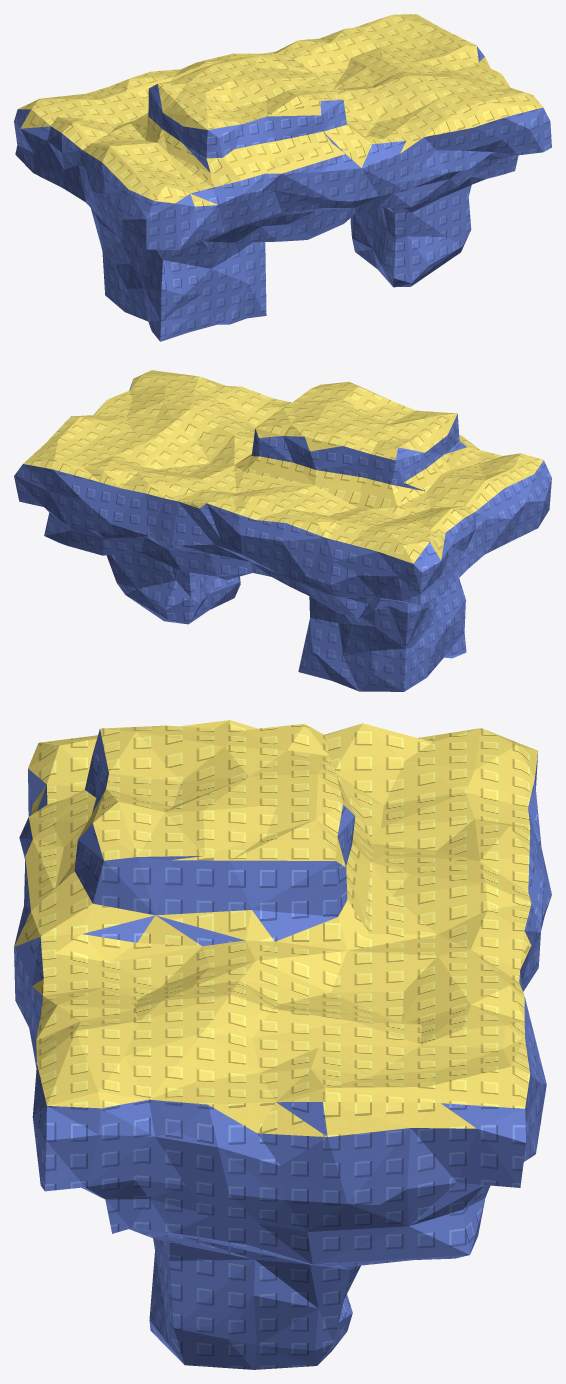
Rendered from ReefShelf.glb.
The picture shows the model from 3 angles, top to bottom: view 1: azimuth 30°, elevation 25°; view 2: azimuth 150°, elevation 25°; view 3: azimuth 270°, elevation 25°; orthographic projection. The views are drawn at different scales.
Visible parts, largest first — view 1: ReefShelf_Rock, ReefShelf_Top; view 2: ReefShelf_Rock, ReefShelf_Top; view 3: ReefShelf_Top, ReefShelf_Rock.
Part boxes in pixels (x1,y1,x2,y2): ReefShelf_Rock: (14,46,551,341); ReefShelf_Top: (18,14,542,206); ReefShelf_Rock: (14,382,551,691); ReefShelf_Top: (23,370,543,563); ReefShelf_Top: (14,720,537,1136); ReefShelf_Rock: (14,729,551,1369).
Bounding box in the file's own units: 29.01 × 15.3 × 17.04.
Materials: 2 (2 with a texture image).
